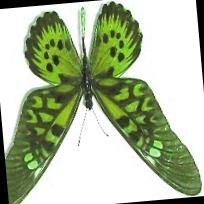butterfly: (5, 1, 201, 204)
